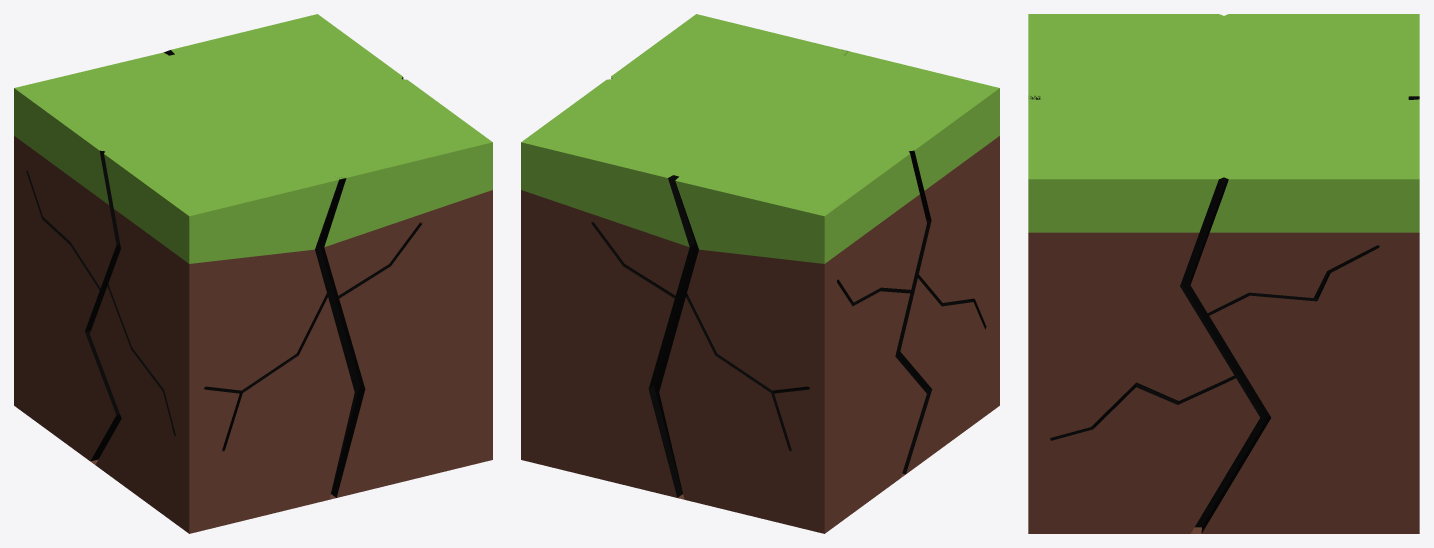
Rendered from 부서진스카이블록.fbx.
3 renders of one model, left to right at view 1: azimuth 30°, elevation 25°; view 2: azimuth 150°, elevation 25°; view 3: azimuth 270°, elevation 25°, orthographic. The views are drawn at different scales.
Visible parts, largest first — view 1: Cube; view 2: Cube; view 3: Cube.
Part boxes in pixels (<box>): Cube: <box>14,14,492,533</box>; Cube: <box>521,14,999,533</box>; Cube: <box>1028,14,1419,533</box>.
Size of the model in its own units: 201 by 200 by 200.
